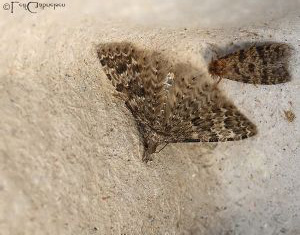Alucitidae: (92, 45, 258, 161), (208, 39, 292, 85)
moth: (94, 47, 260, 163), (210, 41, 294, 87)
